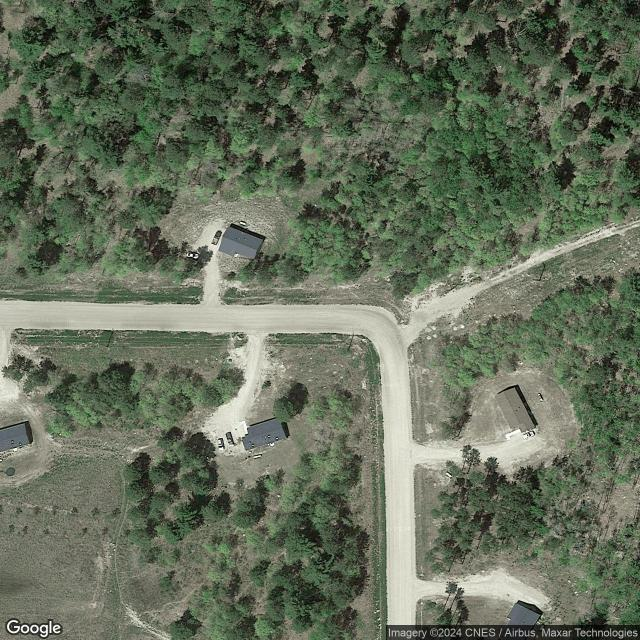Propane: (537, 392, 544, 402), (239, 220, 247, 226), (253, 454, 262, 459)
